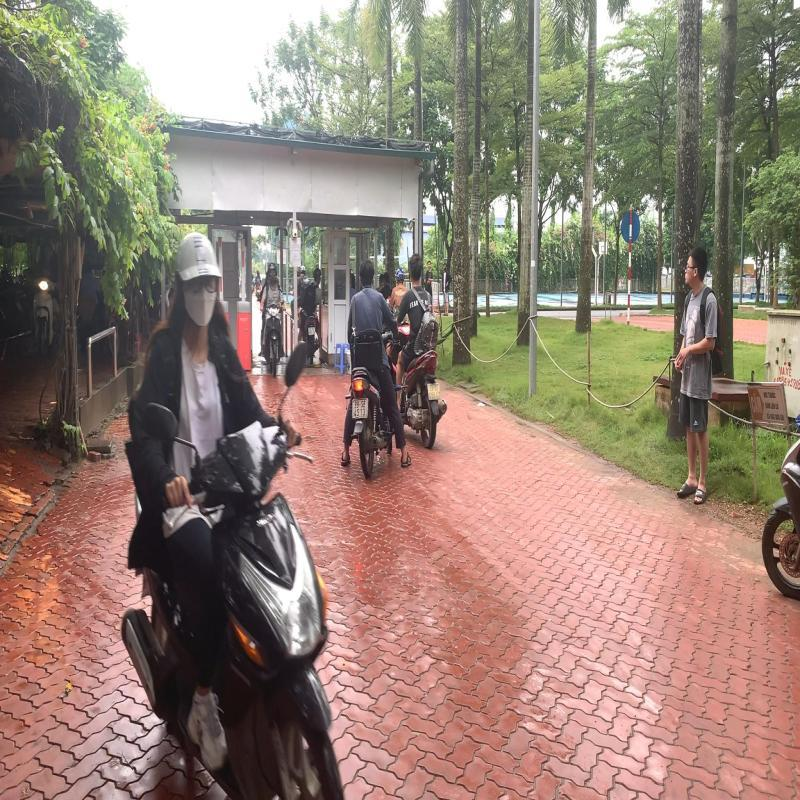licenseplate: (352, 398, 368, 420), (427, 383, 441, 400)
motorcyclist: (340, 256, 412, 476), (394, 253, 447, 450)
nohelmet: (360, 258, 374, 286), (409, 254, 422, 282)
